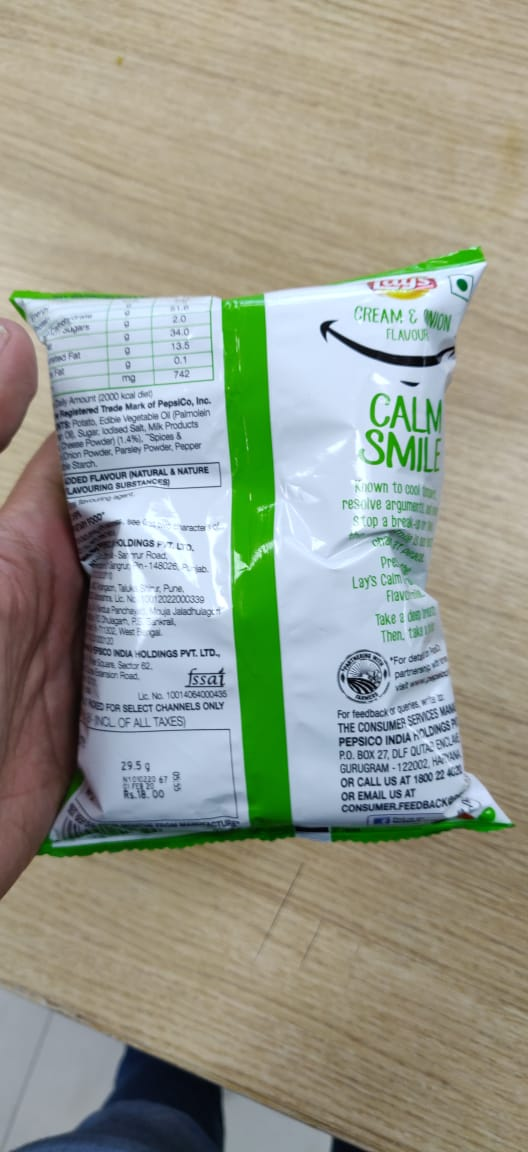lays chips: (5, 239, 522, 863)
